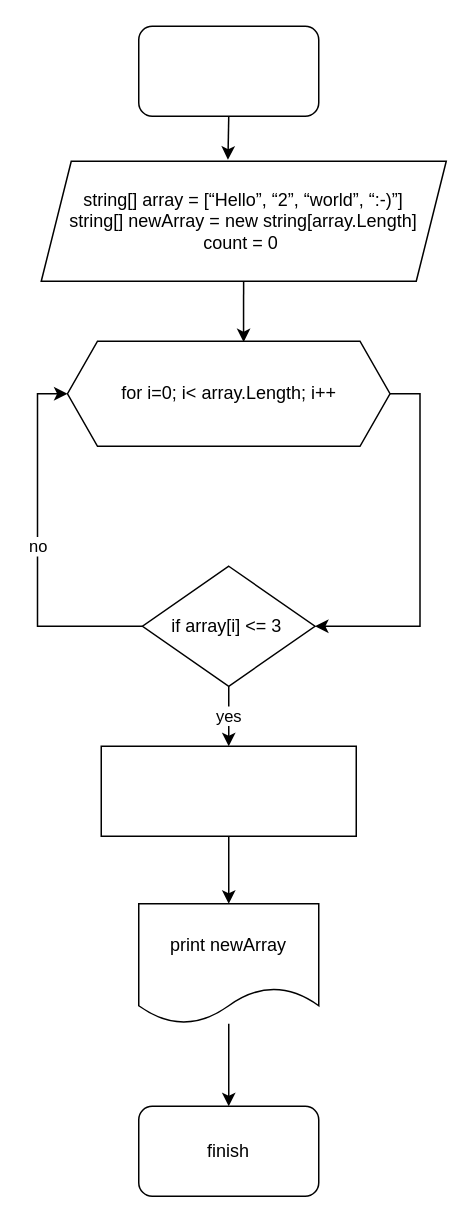
Image size: 473x1223. Some labels were removed from this diagram. Each missing label, with the centre of its shape:
"newArray[count] = array[i] count++" belongs at point 228,790.
"start" belongs at point 228,70.
